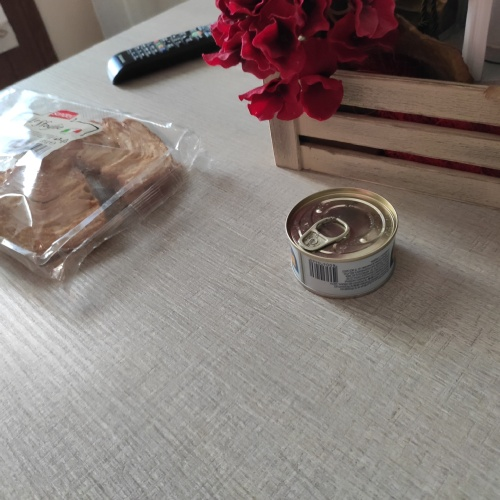tonno: (279, 183, 409, 304)
